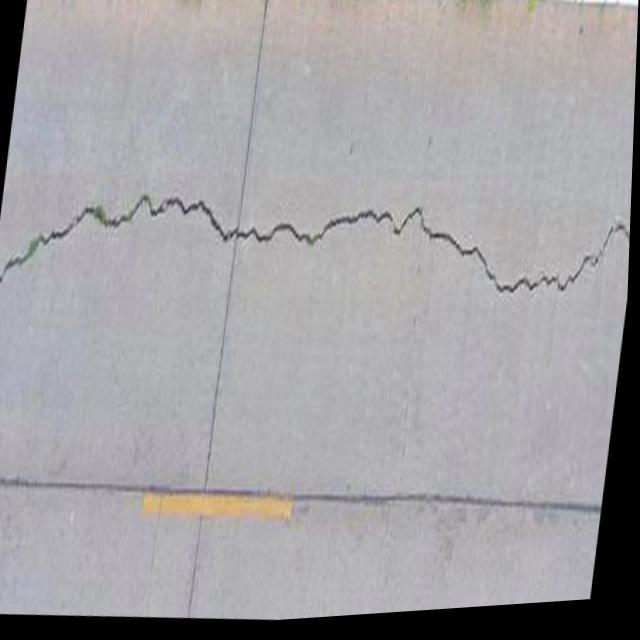Crack: (0, 107, 636, 401)
